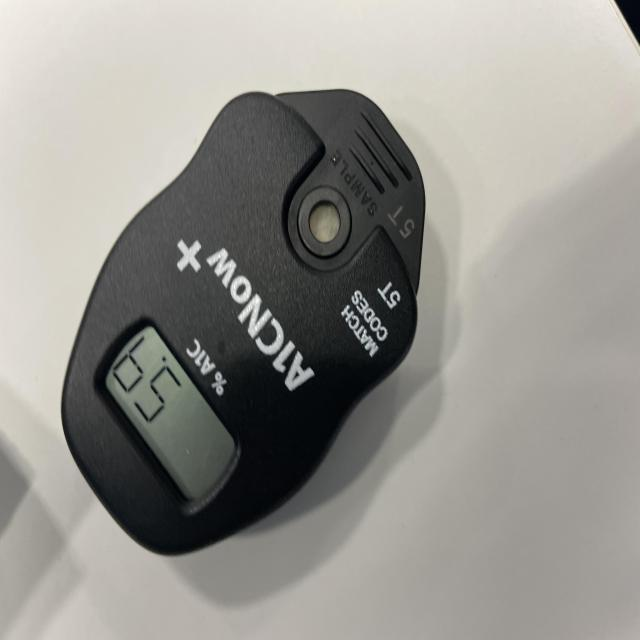hba1c: (59, 88, 428, 561)
